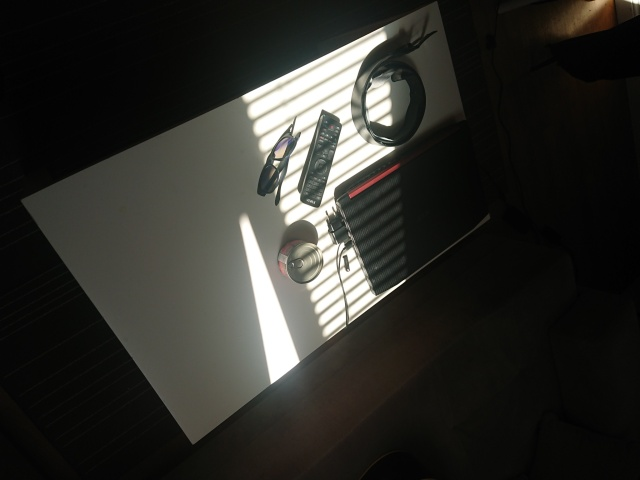Giana Tuna Salad Mexico 185g: (276, 238, 325, 286)
